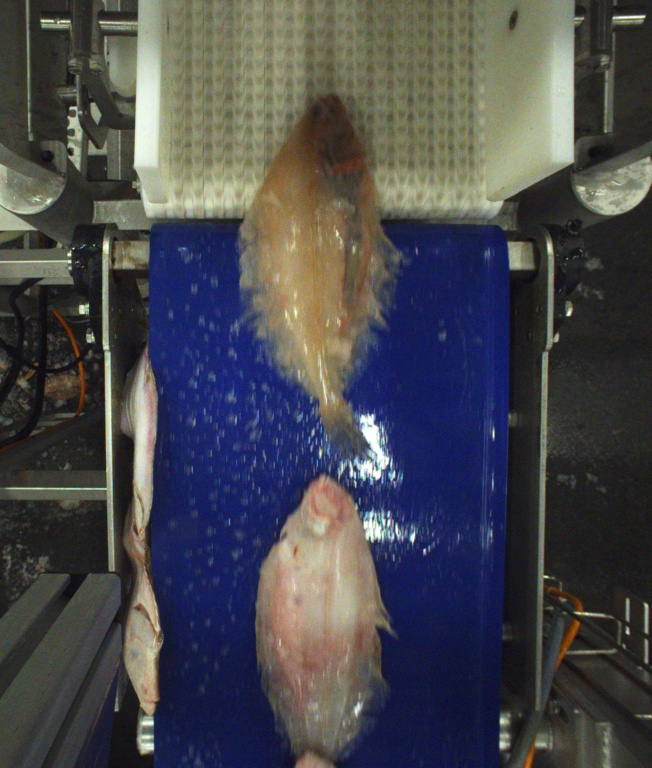WIT: (253, 475, 387, 768)
